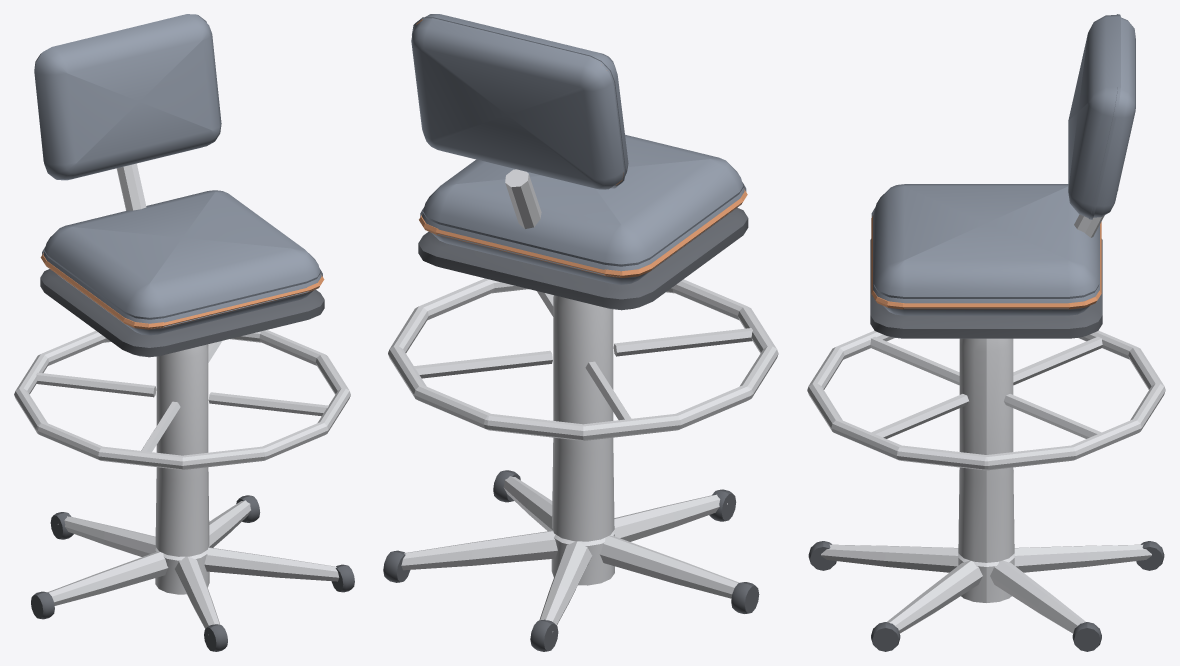
The model's file is downtown-office-interiors-drafting-stool-366e13ac__16983.glb.
3 renders of one model, left to right at view 1: azimuth 30°, elevation 25°; view 2: azimuth 150°, elevation 25°; view 3: azimuth 270°, elevation 25°, orthographic. The views are drawn at different scales.
Parts seen in each view (by area): view 1: drafting-stool; view 2: drafting-stool; view 3: drafting-stool.
Part boxes in pixels (<box>): drafting-stool: <box>14,14,354,651</box>; drafting-stool: <box>383,14,778,651</box>; drafting-stool: <box>807,14,1165,651</box>.
Size of the model in its own units: 0.647 by 1.08 by 0.647.
